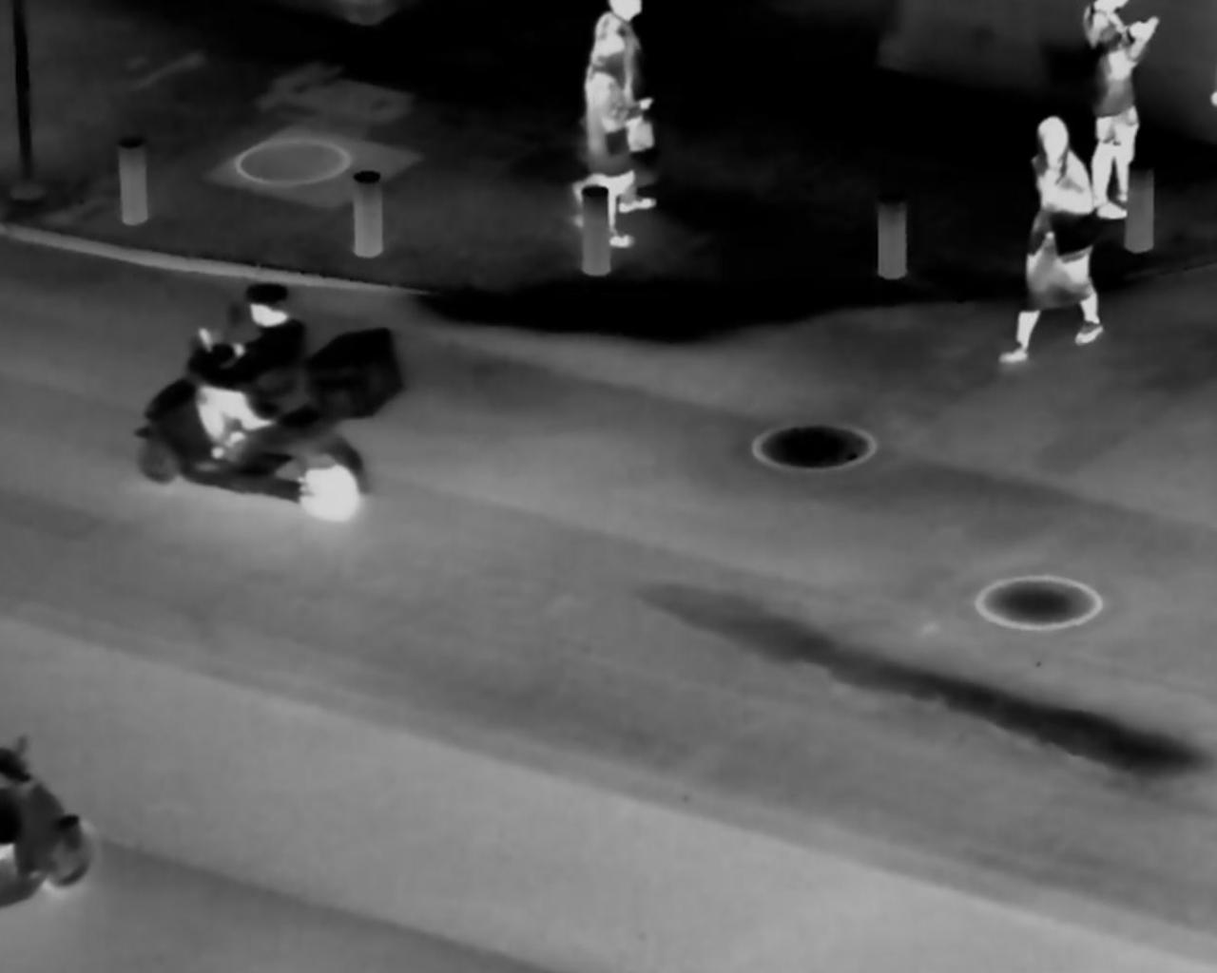person: (193, 268, 319, 479), (1009, 106, 1098, 392), (1078, 6, 1159, 205), (589, 5, 663, 213), (574, 40, 647, 234)
